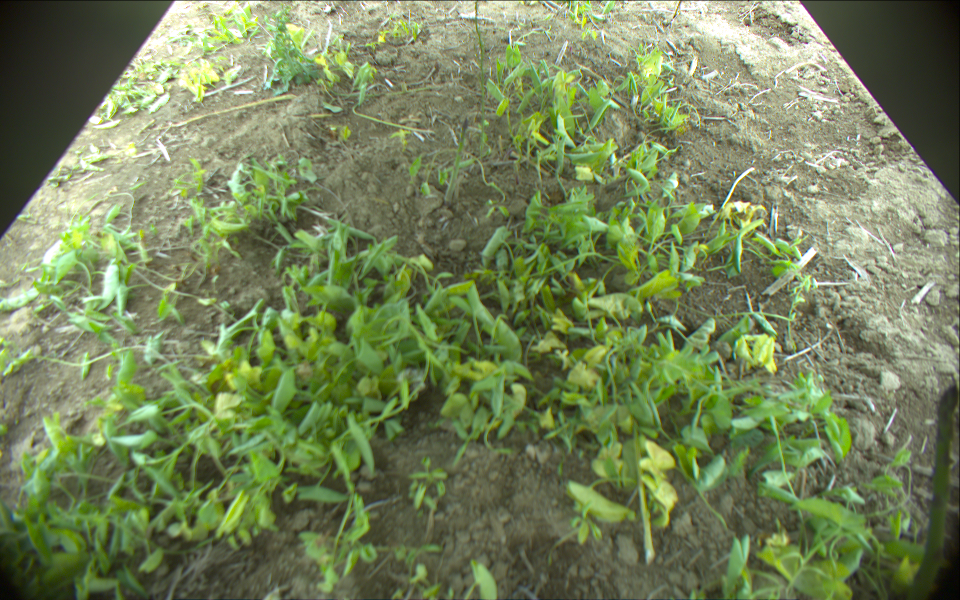aspa: (904, 385, 959, 600), (443, 116, 468, 202)
